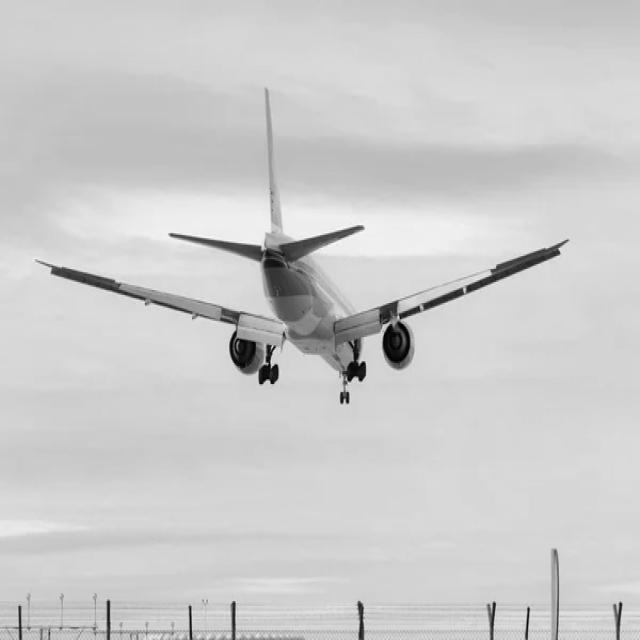Aircraft: (38, 90, 573, 410)
